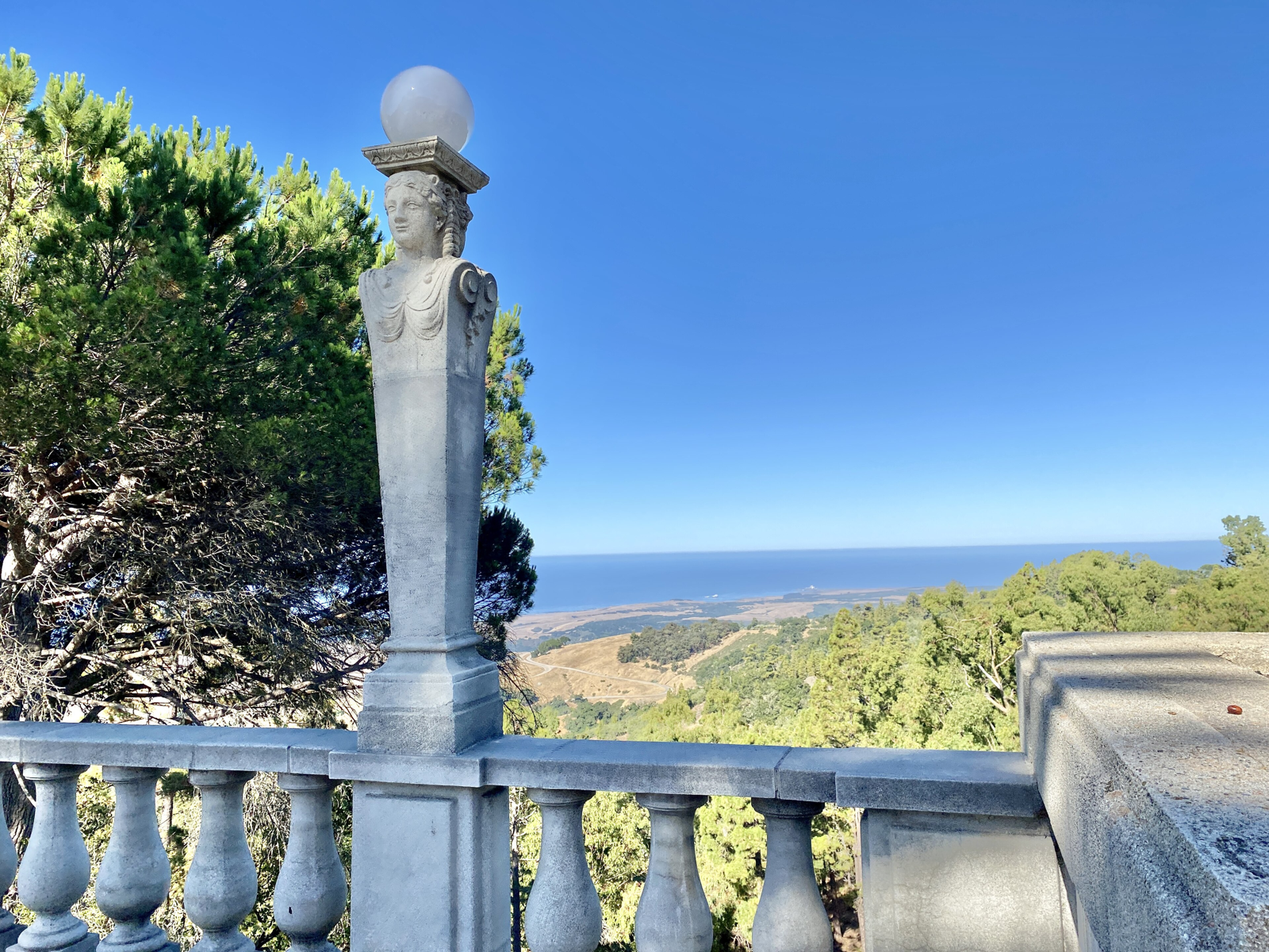poste: (338, 66, 513, 746)
